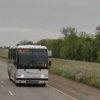Bus: (6, 43, 53, 90)
